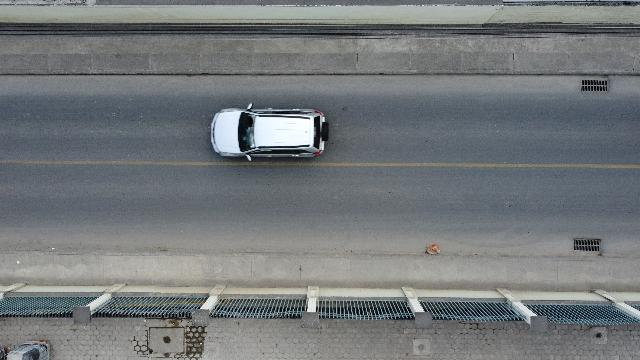Vehiculo: (210, 102, 328, 160)
